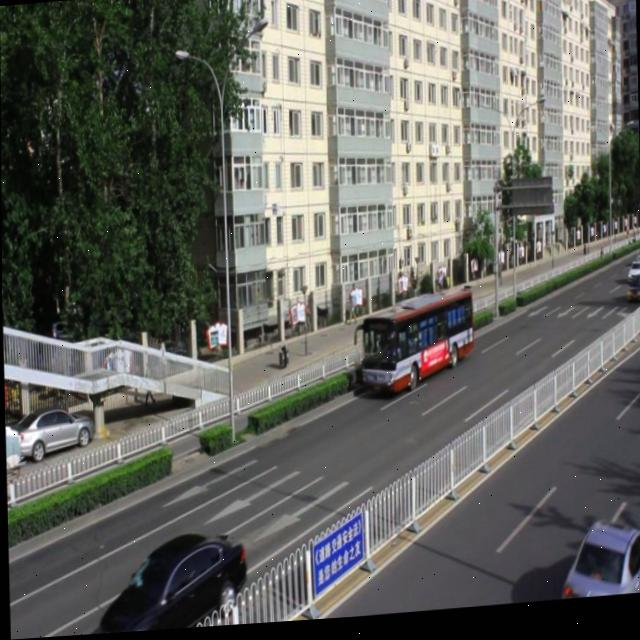car: (89, 526, 245, 635), (557, 519, 640, 607)
van: (359, 294, 474, 402)
